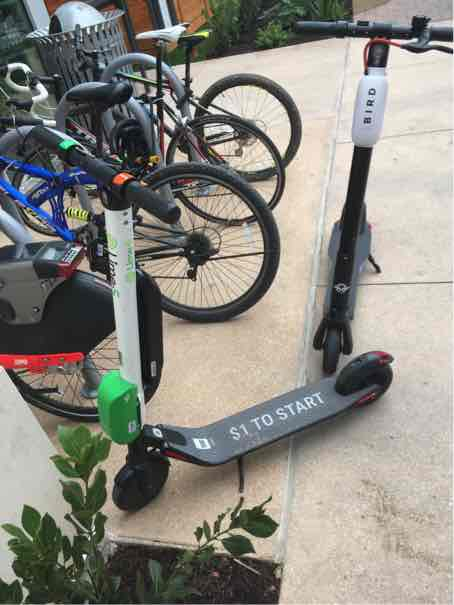scooter: (14, 126, 404, 525)
